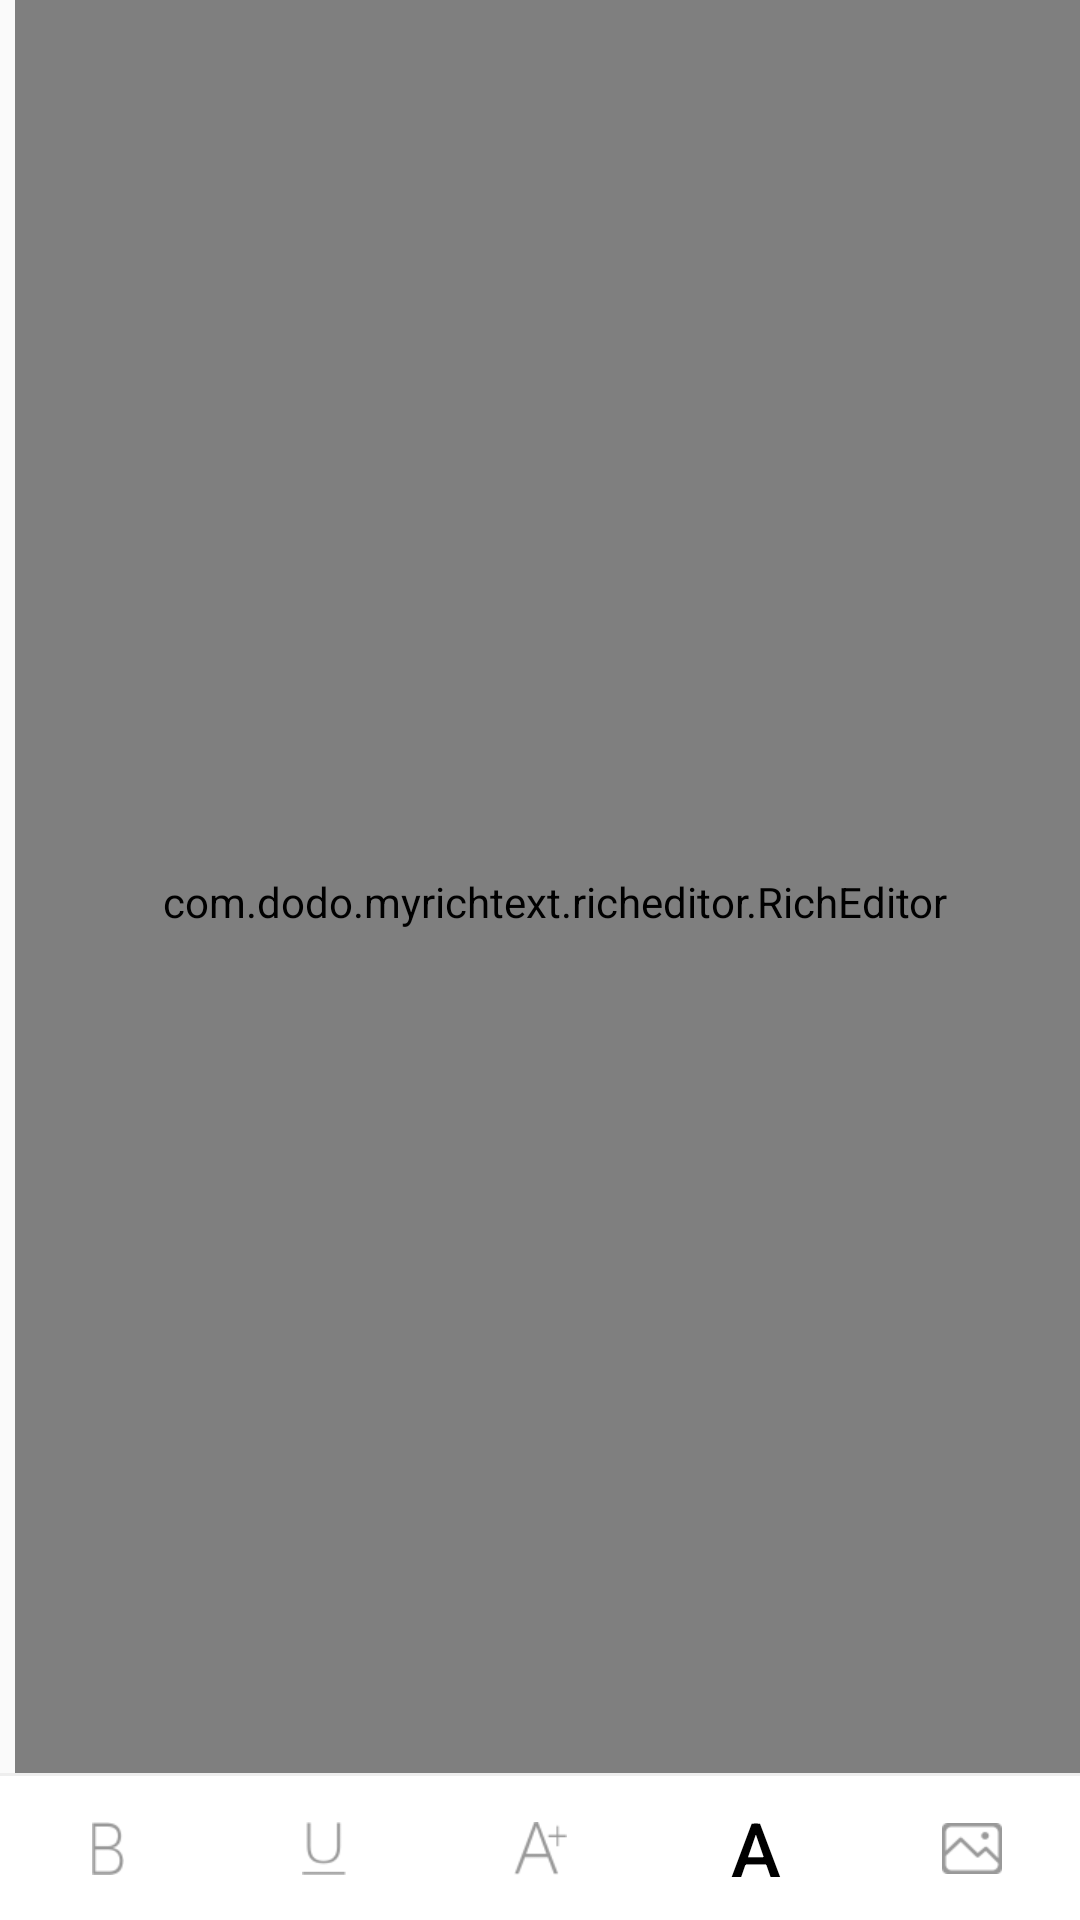

Named icons in this screenshot (1080x1920) and their bounding boxes, (x1, y1, x2, y2):
rich size: (515, 1822, 567, 1874)
rich underline: (302, 1822, 346, 1875)
